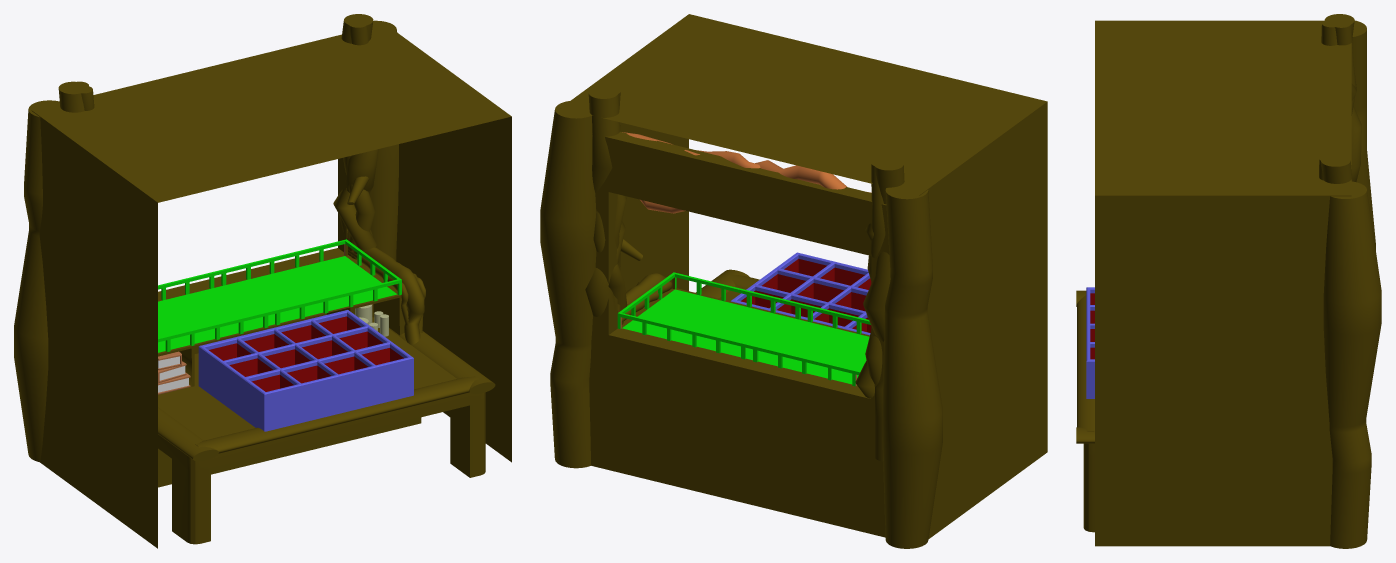
The model's file is shop_finalv2.fbx.
3 views of the same model, side by side, from view 1: azimuth 30°, elevation 25°; view 2: azimuth 150°, elevation 25°; view 3: azimuth 270°, elevation 25° (orthographic).
Parts seen in each view (by area): view 1: walls1, shop_working, draw4x2_2, pCylinder10, pCylinder22, pCylinder21, pCylinder12, pCylinder7 (×2), pCylinder18, pCylinder8, pCylinder9; view 2: walls1, shop_working, pCylinder10, pCylinder12, pCylinder7 (×2), draw4x2_2, pCylinder8, pCylinder9 (×2), pCylinder14; view 3: walls1, pCylinder12, pCylinder10, pCylinder7 (×2), pCylinder22, shop_working, draw4x2_2, pCylinder8, pCylinder9, pCylinder21.
Part boxes in pixels (<box>): walls1: <box>31,24,511,548</box>; shop_working: <box>158,158,485,544</box>; draw4x2_2: <box>198,310,413,431</box>; pCylinder10: <box>14,100,59,462</box>; pCylinder22: <box>195,376,478,453</box>; pCylinder21: <box>158,317,495,461</box>; pCylinder12: <box>369,20,398,260</box>; pCylinder7 (×2): <box>58,14,378,254</box>; pCylinder18: <box>365,247,424,344</box>; pCylinder8: <box>343,19,375,256</box>; pCylinder9: <box>333,17,376,259</box>; walls1: <box>560,14,1047,538</box>; shop_working: <box>589,131,889,537</box>; pCylinder10: <box>882,188,942,548</box>; pCylinder12: <box>540,101,596,468</box>; pCylinder7 (×2): <box>585,86,904,461</box>; draw4x2_2: <box>731,252,871,335</box>; pCylinder8: <box>865,159,888,384</box>; pCylinder9 (×2): <box>593,91,896,398</box>; pCylinder14: <box>622,132,846,189</box>; walls1: <box>1095,20,1351,546</box>; pCylinder12: <box>1323,181,1381,548</box>; pCylinder10: <box>1352,20,1375,249</box>; pCylinder7 (×2): <box>1321,14,1361,183</box>; pCylinder22: <box>1077,295,1094,431</box>; shop_working: <box>1083,325,1094,532</box>; draw4x2_2: <box>1086,287,1094,398</box>; pCylinder8: <box>1332,20,1356,115</box>; pCylinder9: <box>1321,19,1356,100</box>; pCylinder21: <box>1076,290,1094,443</box>.
Bounding box in the file's own units: 313 × 281 × 211.
